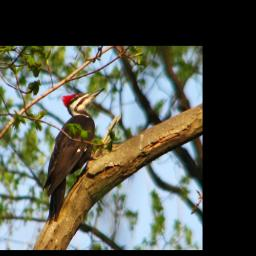Woodpecker: (41, 85, 109, 225)
